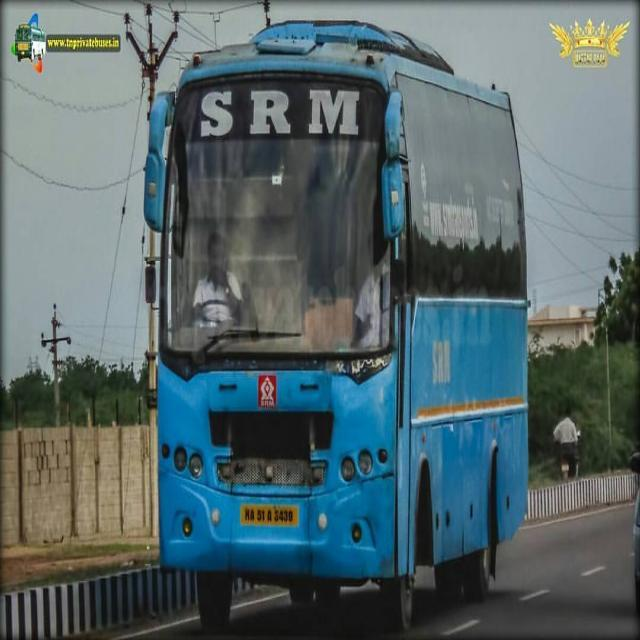Bus: (140, 18, 530, 632)
